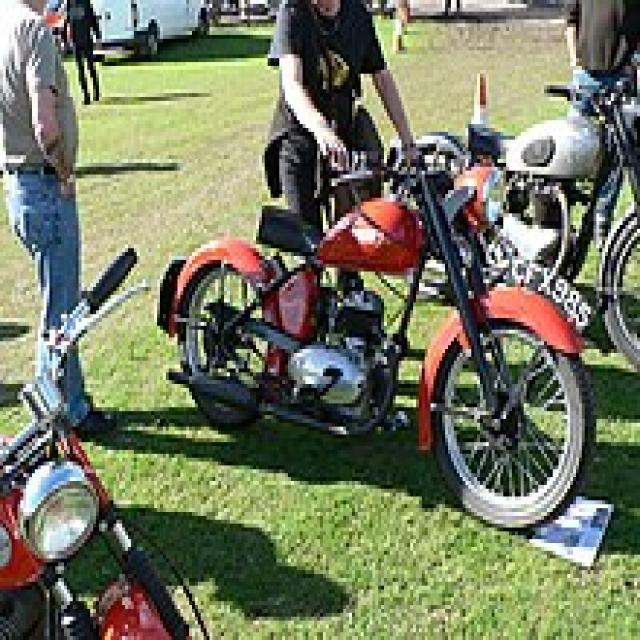motorcycle: (158, 147, 594, 528)
